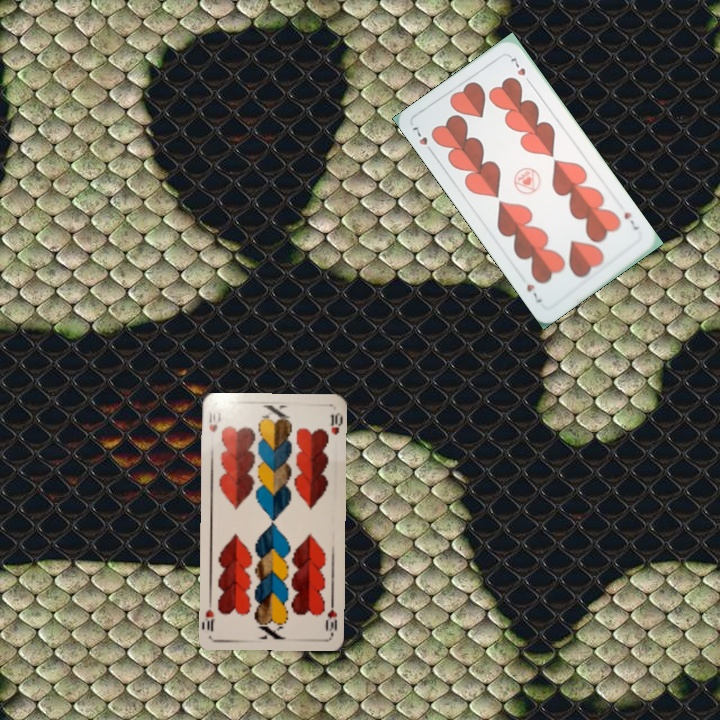H10: (321, 596, 339, 636), (205, 406, 223, 434)
H7: (408, 123, 436, 157), (620, 208, 641, 233)
